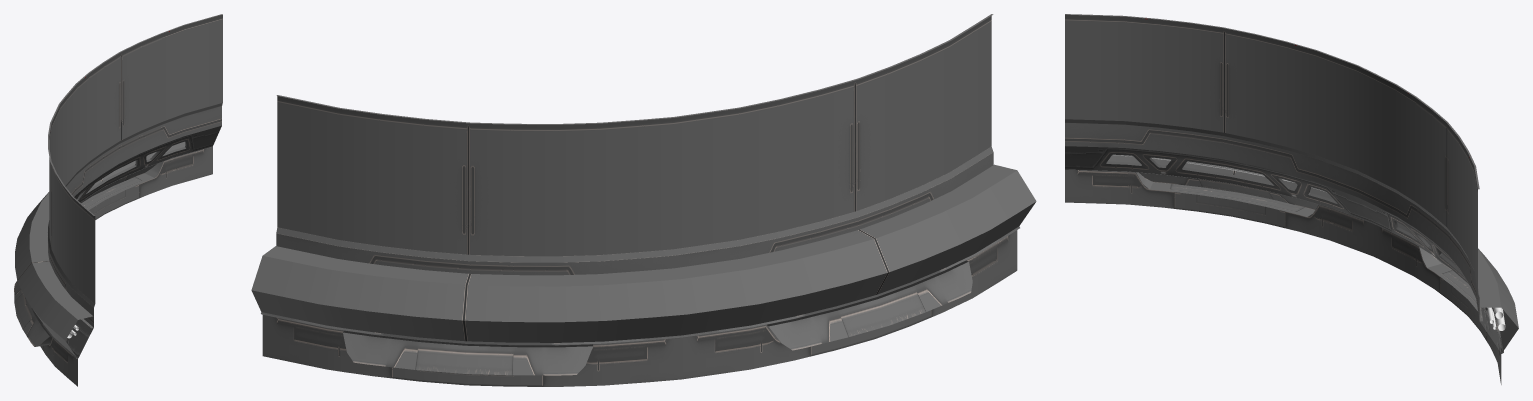
Rendered from TopCables_Corner_Round_Inner.gltf.
3 views of the same model, side by side, from view 1: azimuth 30°, elevation 25°; view 2: azimuth 150°, elevation 25°; view 3: azimuth 270°, elevation 25° (orthographic). The views are drawn at different scales.
Parts seen in each view (by area): view 1: TopCables_Corner_Round_Inner; view 2: TopCables_Corner_Round_Inner; view 3: TopCables_Corner_Round_Inner.
Boxes of the visible parts, x1,y1,x2,y2 form: TopCables_Corner_Round_Inner: [14, 14, 222, 386]; TopCables_Corner_Round_Inner: [251, 14, 1036, 386]; TopCables_Corner_Round_Inner: [1065, 14, 1518, 384].
Bounding box in the file's own units: 4.16 × 2 × 4.16.
Materials: 4 (3 with a texture image).
